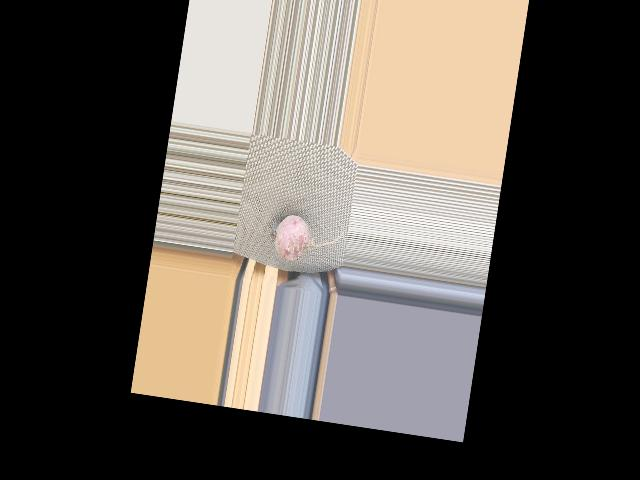beet: (266, 212, 343, 268)
